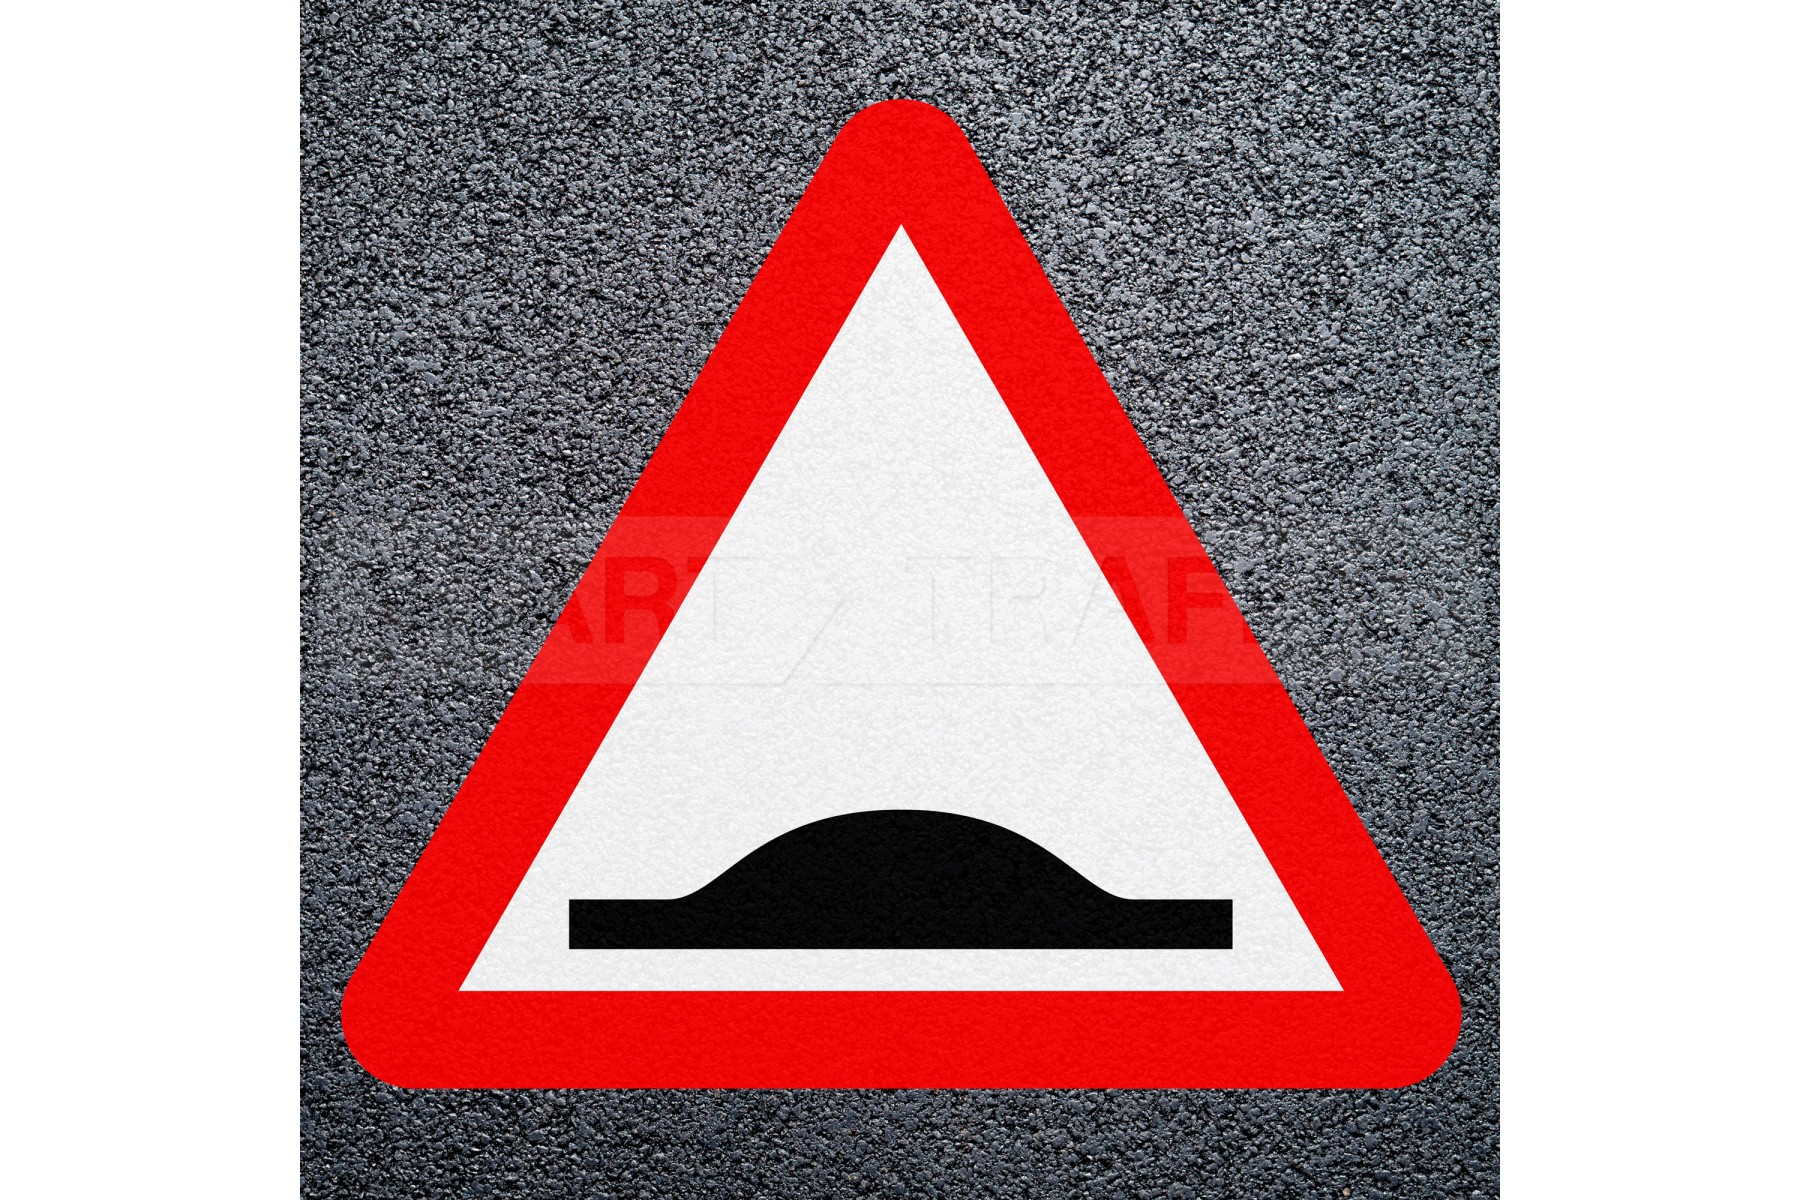speed-breaker: (367, 100, 1438, 1090)
